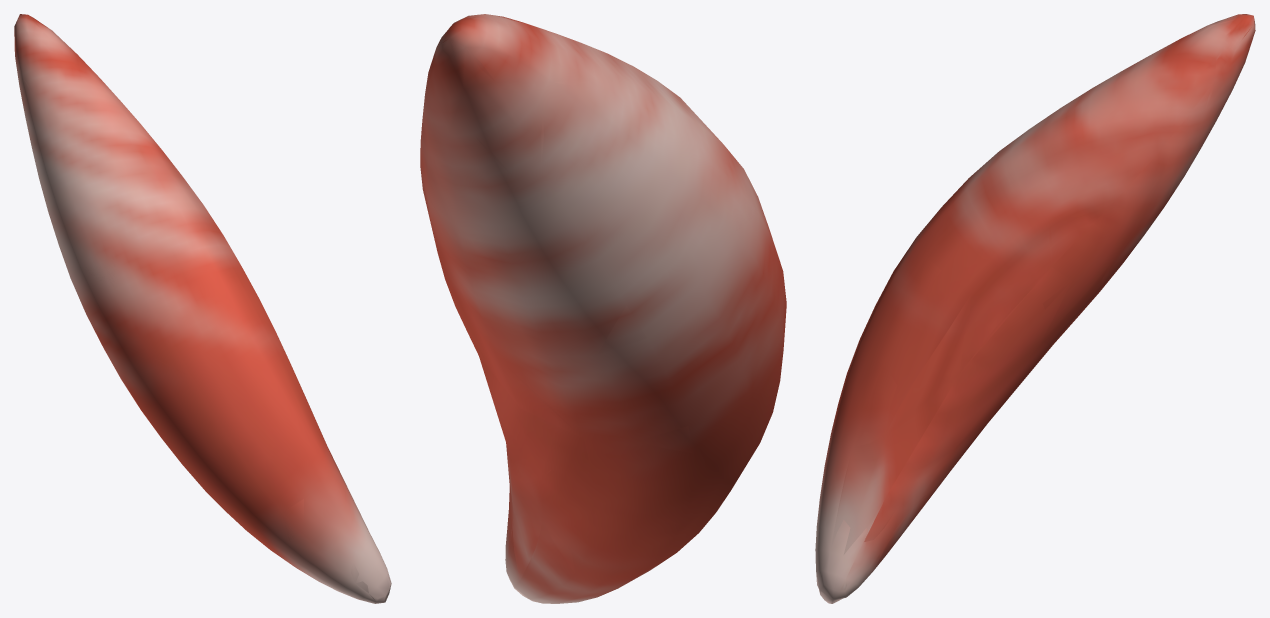
Rendered from L vastus medialis.fbx.
3 renders of one model, left to right at view 1: azimuth 30°, elevation 25°; view 2: azimuth 150°, elevation 25°; view 3: azimuth 270°, elevation 25°, orthographic. The views are drawn at different scales.
Parts seen in each view (by area): view 1: L vastus medialis, L vastus medialis low; view 2: L vastus medialis, L vastus medialis low; view 3: L vastus medialis, L vastus medialis low.
Part boxes in pixels (bbox=[...]): L vastus medialis: bbox=[14, 14, 391, 603]; L vastus medialis low: bbox=[19, 15, 388, 601]; L vastus medialis: bbox=[420, 14, 786, 603]; L vastus medialis low: bbox=[423, 14, 755, 580]; L vastus medialis: bbox=[815, 14, 1255, 603]; L vastus medialis low: bbox=[820, 15, 1255, 603].
Bounding box in the file's own units: 4.75 × 10.31 × 8.13.
